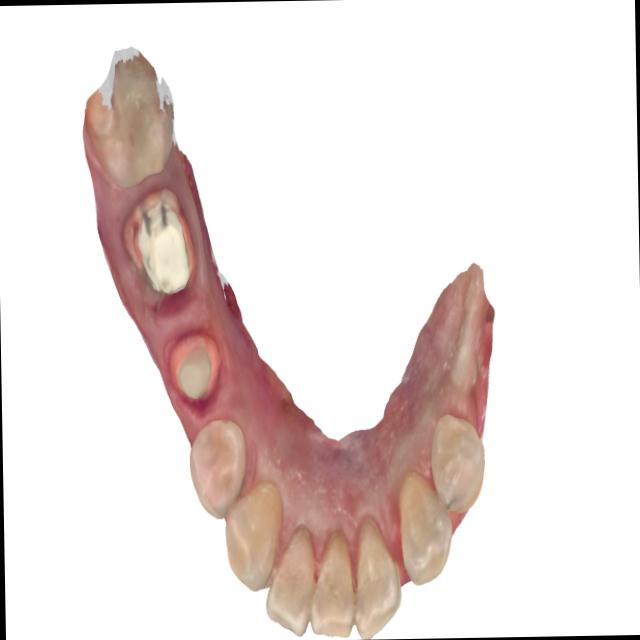tooth: (80, 50, 182, 201), (122, 173, 206, 305), (215, 459, 289, 602), (383, 457, 458, 594), (336, 495, 405, 640), (180, 396, 253, 520), (260, 499, 319, 640), (160, 309, 230, 424), (304, 504, 362, 640), (427, 395, 491, 518)
